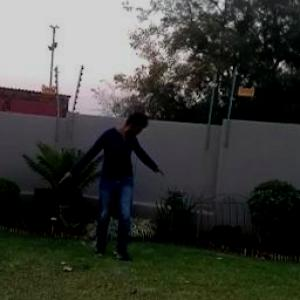land: (66, 96, 188, 274)
